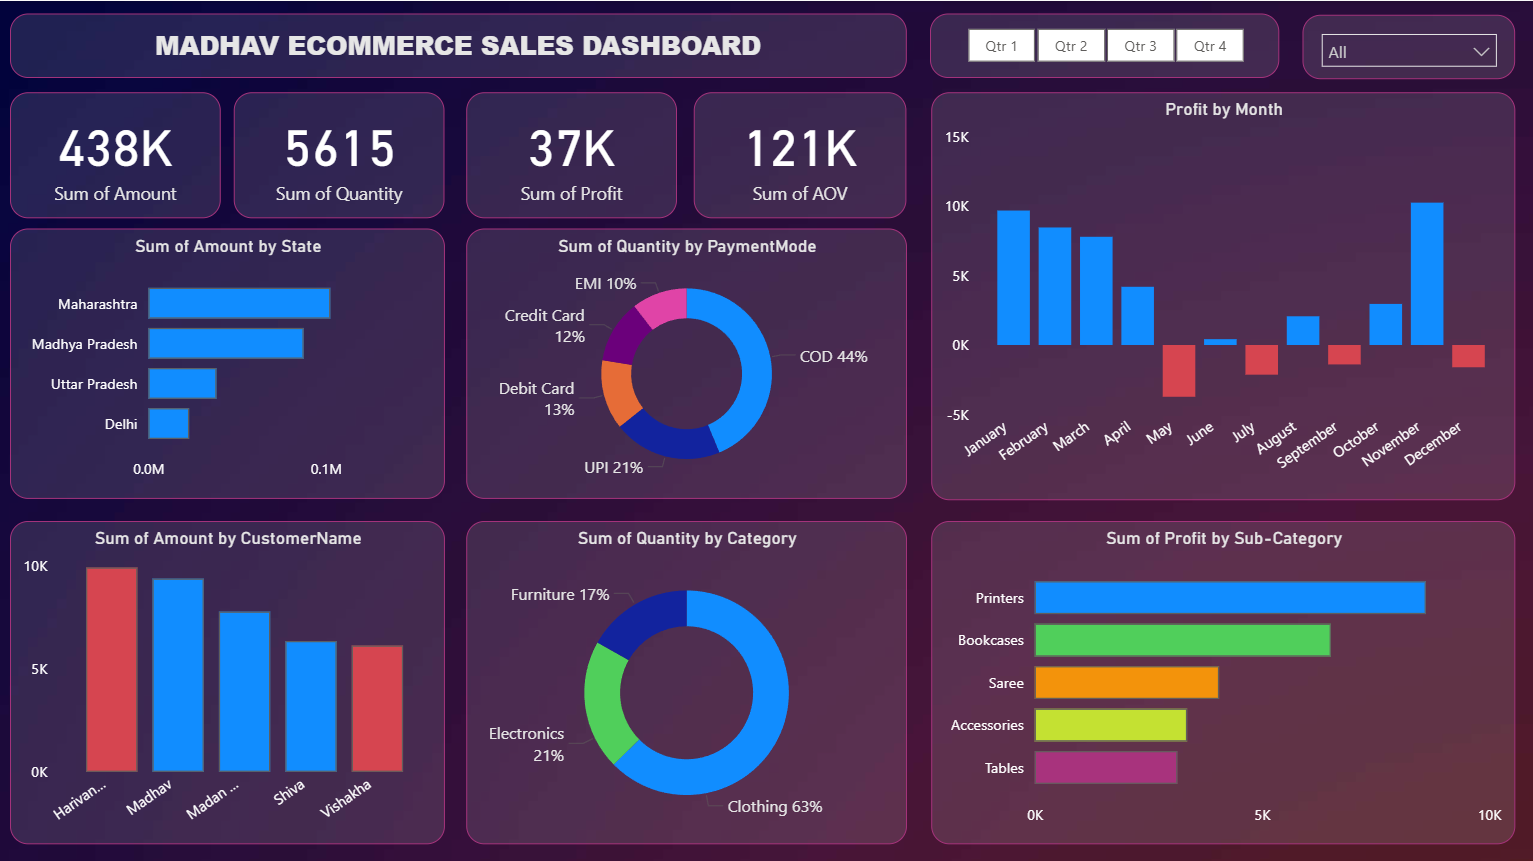

This screenshot's page, from the dashboard's own definition file:
{"tool":"powerbi","page":{"name":"Page 1","canvas":[1280,720],"ordinal":0},"visuals":[{"type":"columnChart","title":"Profit by Month","fields":{"Y":["Details.Profit"],"Category":["Orders.Order Date.Variation.Date Hierarchy.Month"]},"box":[773.9,75.5,485.8,338.9],"z":0},{"type":"barChart","fields":{"Category":["Details.Sub-Category"],"Y":["Details.Profit"]},"box":[773.9,432.2,485.8,269],"z":1000},{"type":"donutChart","fields":{"Y":["Details.Quantity"],"Category":["Details.Category"]},"box":[387.2,432.6,366.3,268.6],"z":2000},{"type":"donutChart","fields":{"Y":["Details.Quantity"],"Category":["Details.PaymentMode"]},"box":[387.2,189.5,366.3,224.4],"z":3000},{"type":"card","fields":{"Values":["Details.Amount"]},"box":[8.1,75.6,175.6,104.7],"z":4000},{"type":"card","fields":{"Values":["Details.Quantity"]},"box":[194.2,75.6,175.6,104.7],"z":5000},{"type":"card","fields":{"Values":["Details.Profit"]},"box":[387.2,75.6,175.6,104.7],"z":6000},{"type":"card","fields":{"Values":["Details.Sum Of AOV"]},"box":[576.7,75.6,176.7,104.7],"z":7000},{"type":"barChart","fields":{"Category":["Orders.State"],"Y":["Details.Amount"]},"box":[8.1,189.5,361.6,224.4],"z":8000},{"type":"columnChart","fields":{"Category":["Orders.CustomerName"],"Y":["Details.Amount"]},"box":[8.1,432.6,361.6,268.6],"z":9000},{"type":"textbox","box":[8.1,10.5,745.4,53.5],"z":10000},{"type":"slicer","fields":{"Values":["Orders.Order Date.Variation.Date Hierarchy.Quarter"]},"box":[773.3,10.5,290.7,53.5],"z":11000},{"type":"slicer","fields":{"Values":["Orders.State"]},"box":[1082.7,11,177,53.5],"z":12000}]}

Visuals, with their boxes in screenshot pixels (x1, y1, x2, y2), scaled from the page's 1280x720 canvas onto the 1533x861 screenshot:
"Profit by Month" columnChart: Rect(927, 90, 1509, 496)
barChart - Details.Sub-Category x Details.Profit: Rect(927, 517, 1509, 839)
donutChart - Details.Quantity x Details.Category: Rect(464, 517, 902, 839)
donutChart - Details.Quantity x Details.PaymentMode: Rect(464, 227, 902, 495)
card - Details.Amount: Rect(10, 90, 220, 216)
card - Details.Quantity: Rect(233, 90, 443, 216)
card - Details.Profit: Rect(464, 90, 674, 216)
card - Details.Sum Of AOV: Rect(691, 90, 902, 216)
barChart - Orders.State x Details.Amount: Rect(10, 227, 443, 495)
columnChart - Orders.CustomerName x Details.Amount: Rect(10, 517, 443, 839)
textbox: Rect(10, 13, 902, 77)
slicer - Orders.Order Date.Variation.Date Hierarchy.Quarter: Rect(926, 13, 1274, 77)
slicer - Orders.State: Rect(1297, 13, 1509, 77)
